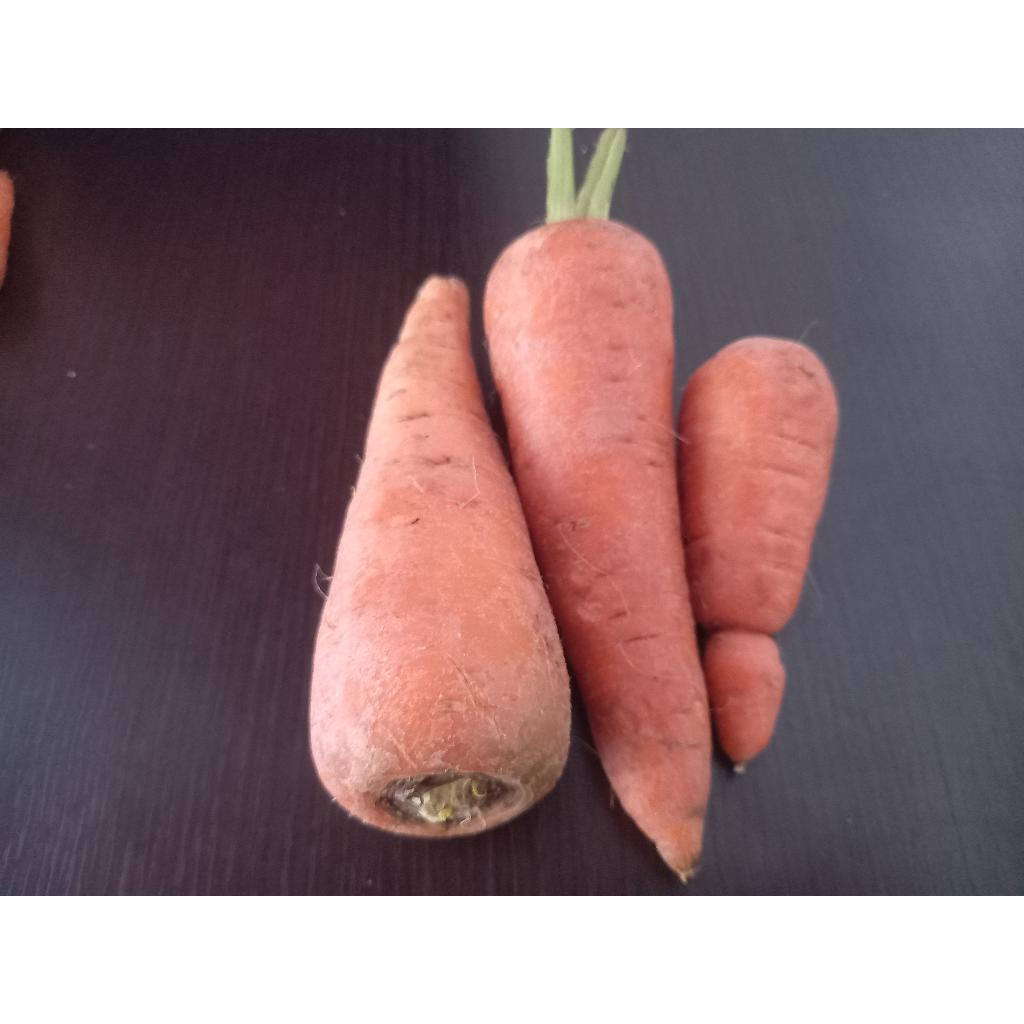carrot: (484, 218, 710, 876), (310, 276, 570, 836), (680, 338, 838, 760)
